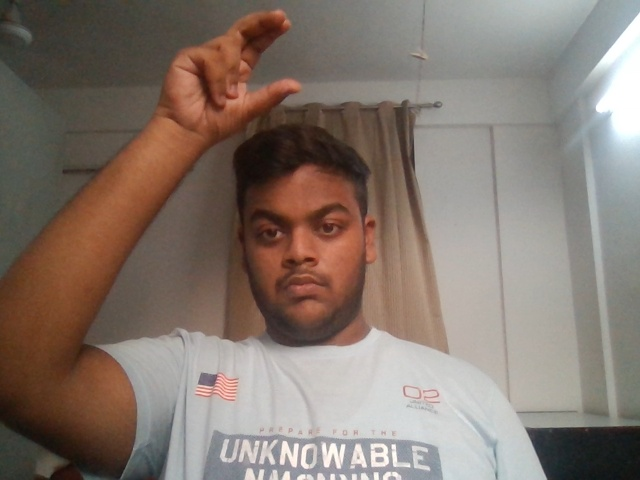No: (139, 5, 318, 186)
